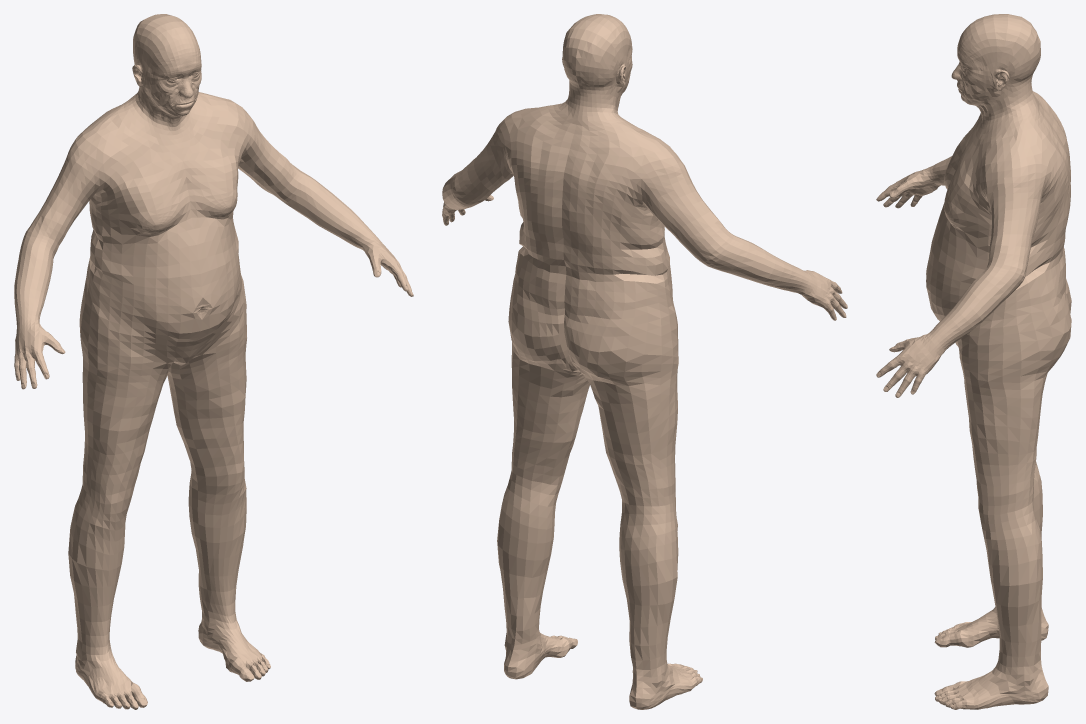
File: male-elder-max-low.glb
3 renders of one model, left to right at view 1: azimuth 30°, elevation 25°; view 2: azimuth 150°, elevation 25°; view 3: azimuth 270°, elevation 25°, orthographic.
Visible parts, largest first — view 1: world; view 2: world; view 3: world.
Part boxes in pixels (x1,y1,x2,y2): world: (14, 14, 413, 709); world: (442, 14, 847, 709); world: (876, 14, 1071, 709).
Size of the model in its own units: 1.2 by 1.92 by 0.5195.
